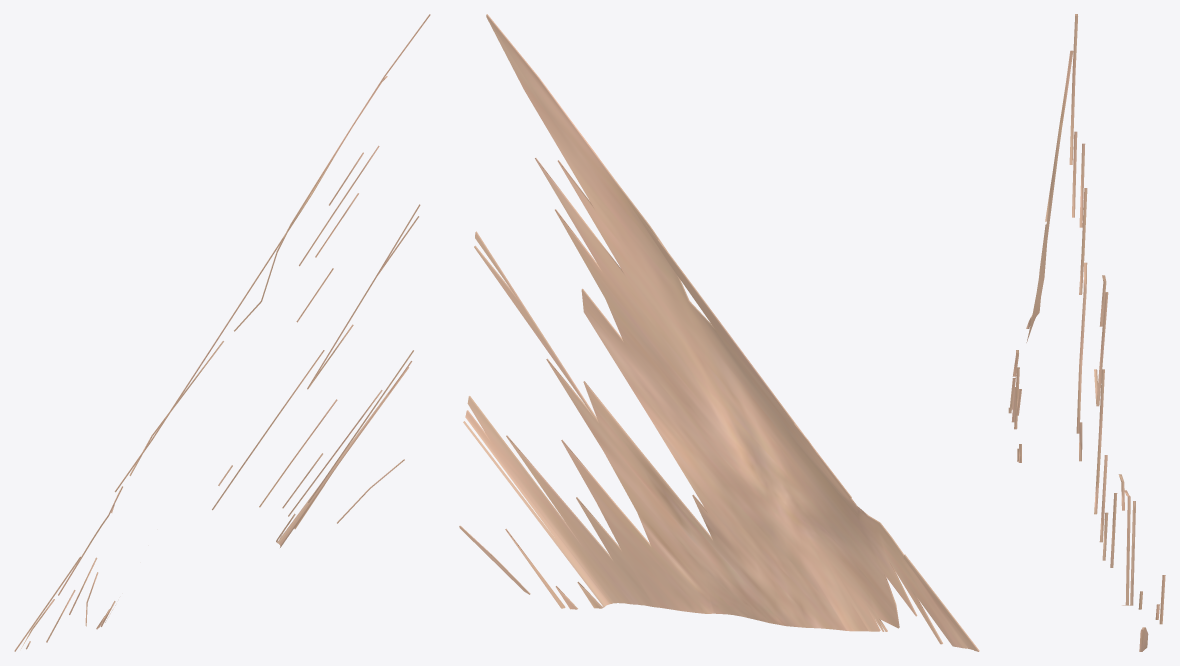
3 views of the same model, side by side, from view 1: azimuth 30°, elevation 25°; view 2: azimuth 150°, elevation 25°; view 3: azimuth 270°, elevation 25° (orthographic). The views are drawn at different scales.
Bounding box in the file's own units: 7.31 × 8.12 × 1.71.
Materials: 1 (1 with a texture image).
